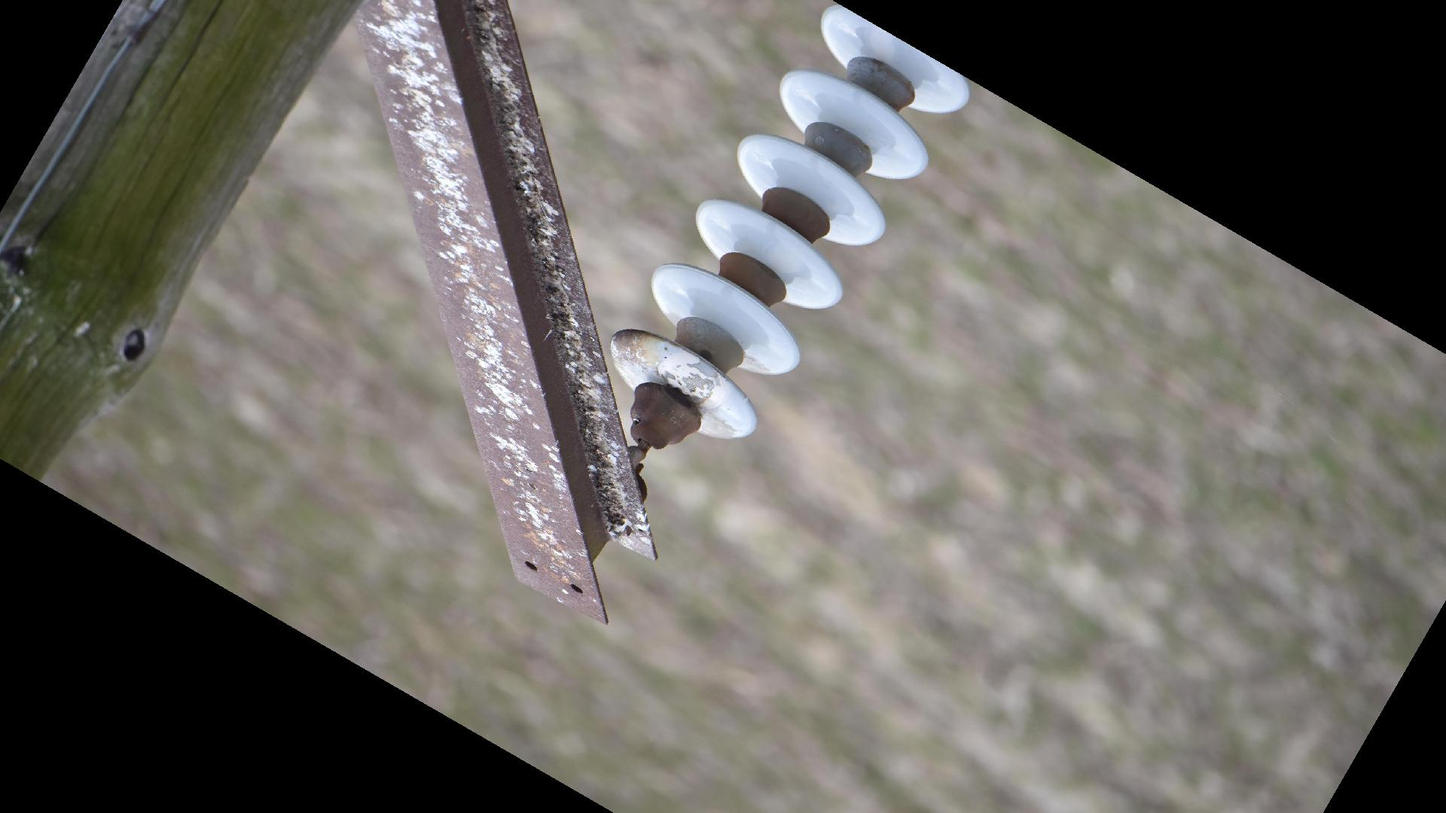insulator: (606, 1, 977, 448)
insulator_flashover: (657, 349, 726, 404)
